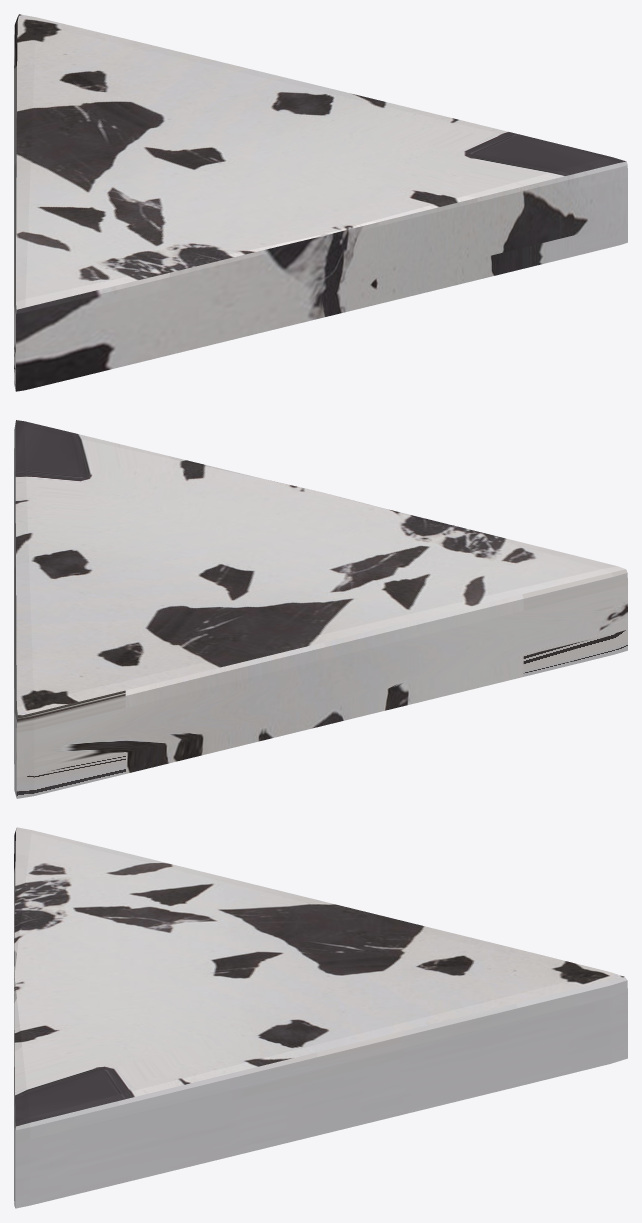
File: tile_terrazo.gltf
3 renders of one model, top to bottom at view 1: azimuth 30°, elevation 25°; view 2: azimuth 150°, elevation 25°; view 3: azimuth 270°, elevation 25°, orthographic.
Parts seen in each view (by area): view 1: Cylinder.004; view 2: Cylinder.004; view 3: Cylinder.004.
Boxes of the visible parts, left/top/right/bottom form: Cylinder.004: left=14, top=14, right=627, bottom=391; Cylinder.004: left=14, top=420, right=627, bottom=798; Cylinder.004: left=14, top=827, right=627, bottom=1208.
Size of the model in its own units: 1.72 by 0.2236 by 1.49.
Materials: 1 (1 with a texture image).
